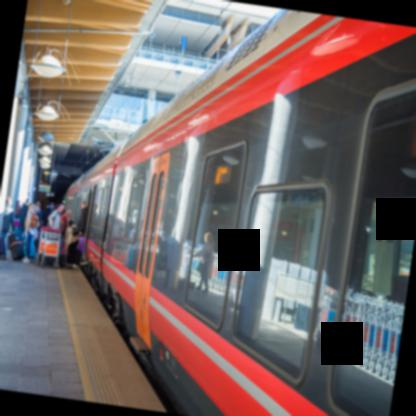backpack: (30, 212, 40, 231), (69, 224, 79, 235), (63, 215, 67, 229)
handbag: (196, 246, 212, 275), (29, 211, 39, 228), (68, 219, 72, 226)
suitcase: (8, 232, 24, 260)
